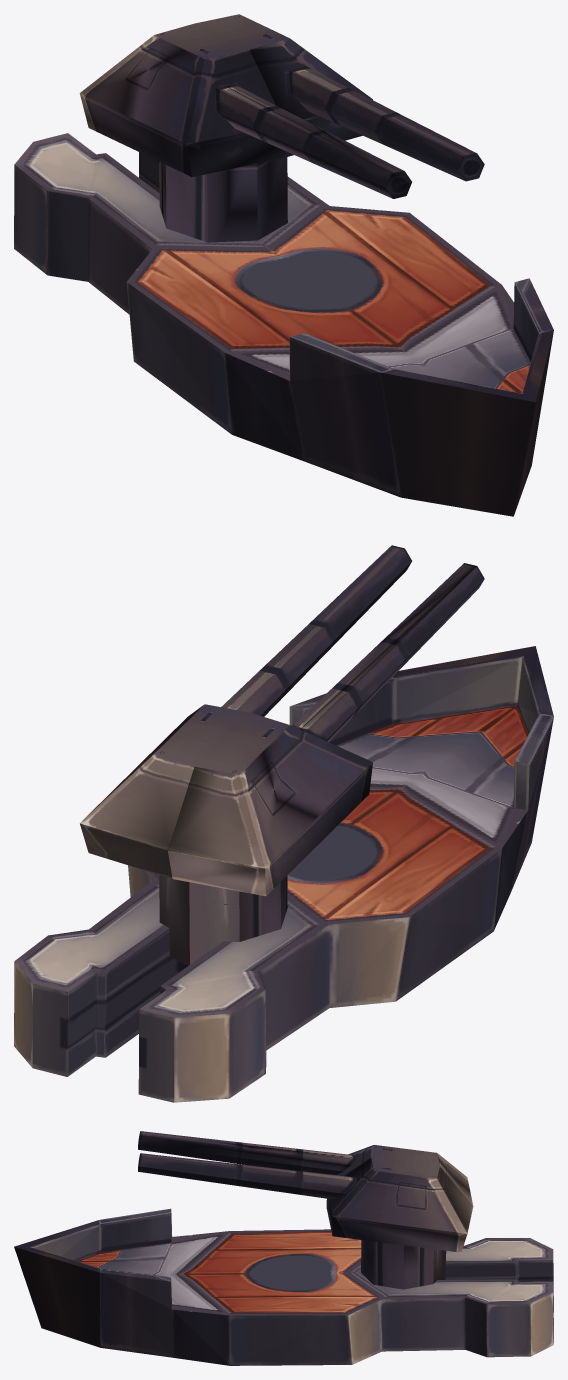
The model's file is R51000091_chuan.FBX.
3 views of the same model, one above another, from view 1: azimuth 30°, elevation 25°; view 2: azimuth 150°, elevation 25°; view 3: azimuth 270°, elevation 25° (orthographic). The views are drawn at different scales.
Parts seen in each view (by area): view 1: Object002; view 2: Object002; view 3: Object002.
Boxes of the visible parts, x1,y1,x2,y2 form: Object002: [14, 14, 553, 516]; Object002: [14, 545, 553, 1102]; Object002: [14, 1131, 553, 1365].
Size of the model in its own units: 59.03 by 58.78 by 156.
Materials: 1 (1 with a texture image).
